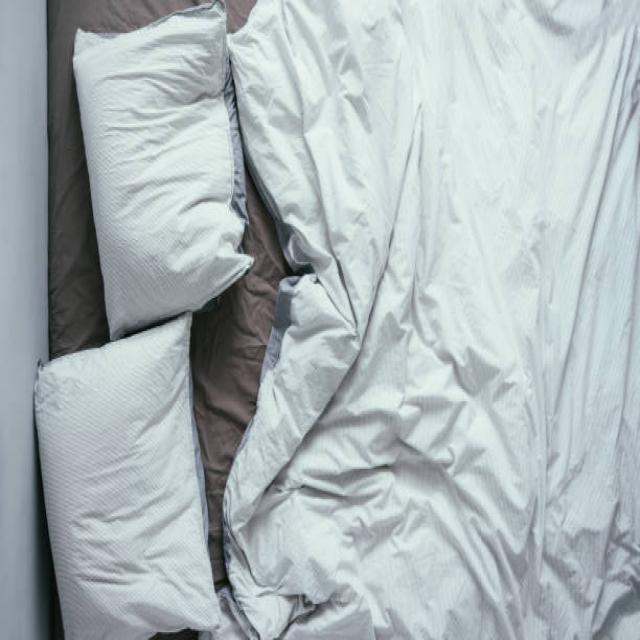bed: (50, 0, 640, 638)
